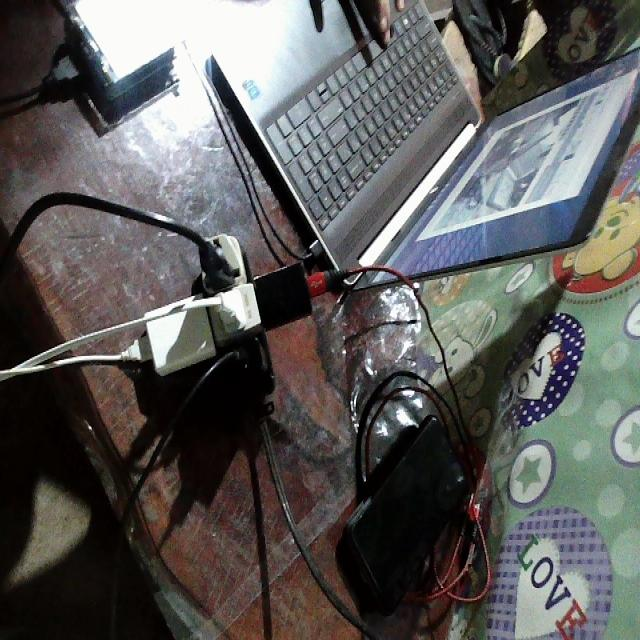-: (125, 229, 317, 415)
